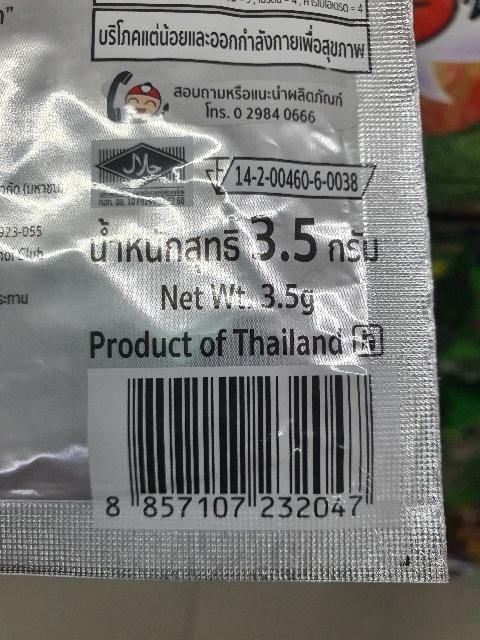Barcode: (90, 370, 391, 520)
